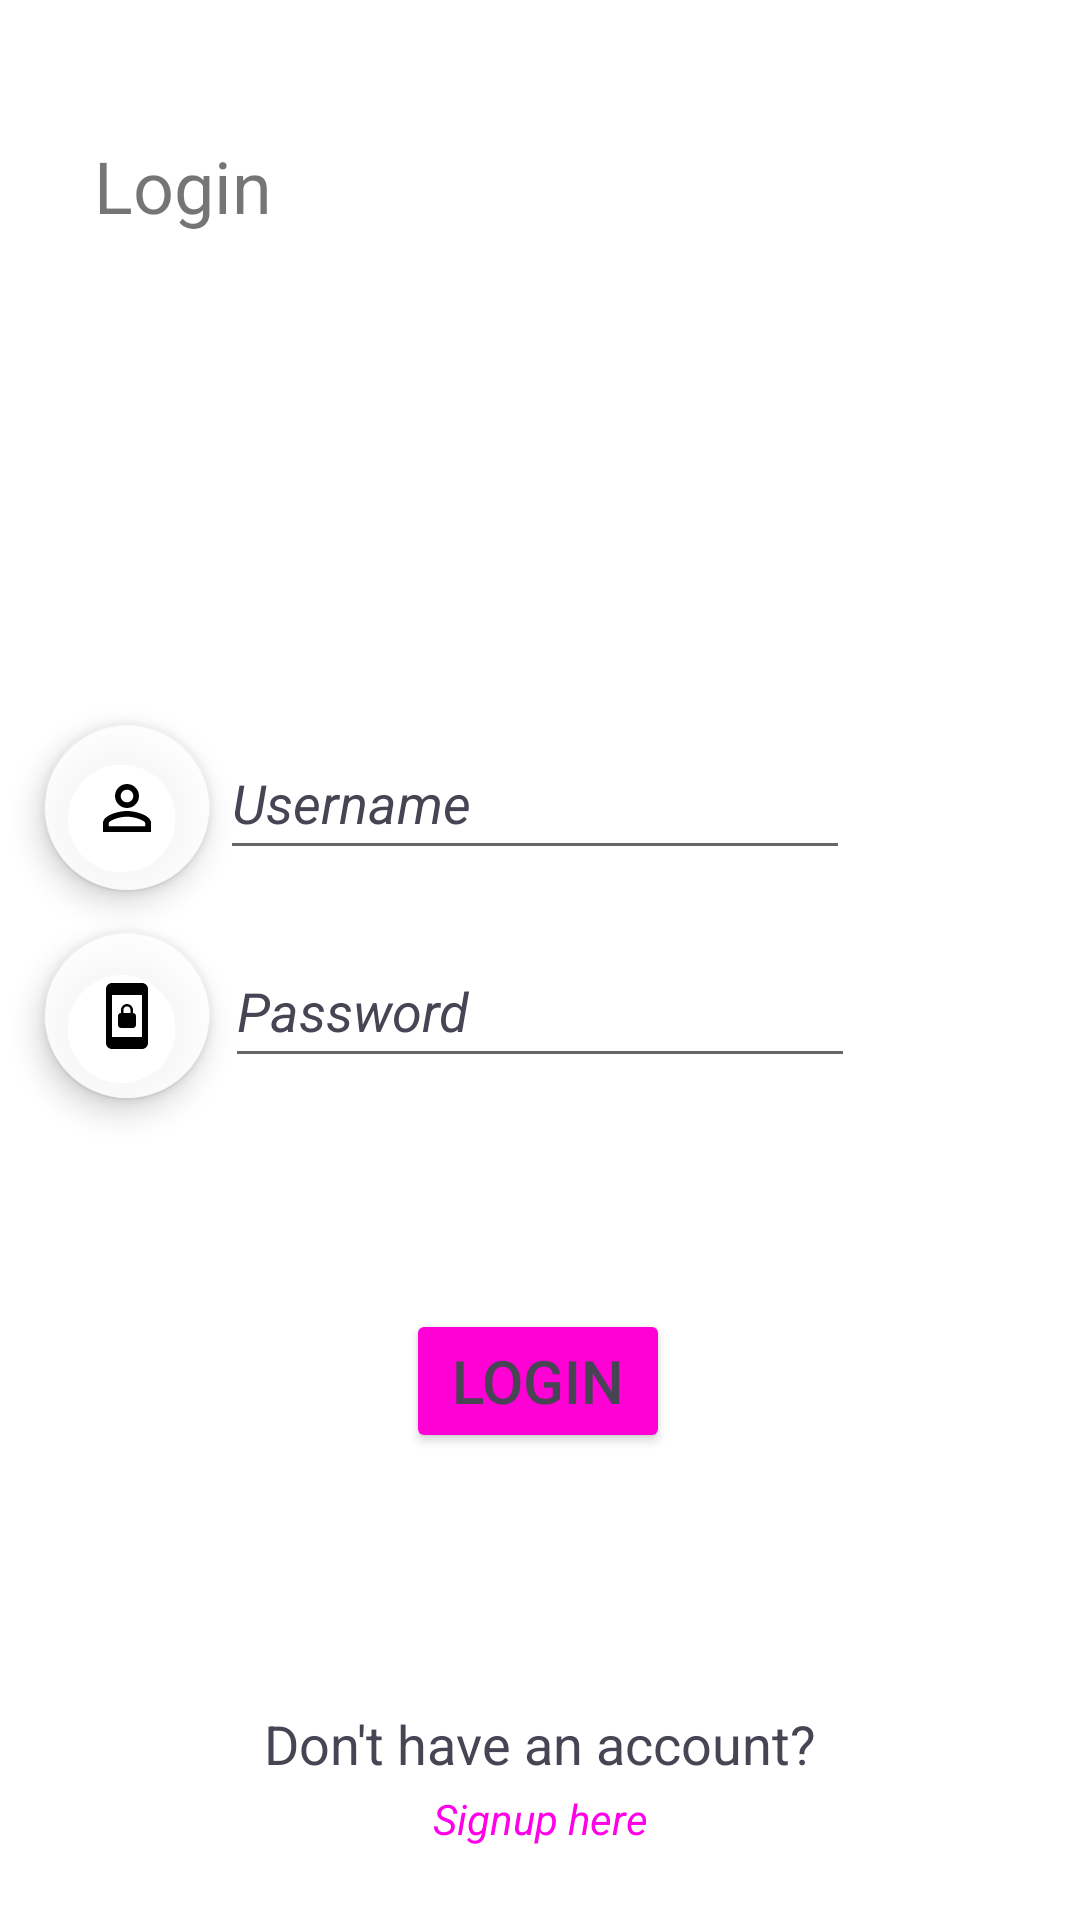

Icon click points for this 1080×1920 phone screenshot, format (x=x, y=y):
lock: (x=127, y=1016)
person: (x=125, y=834)
